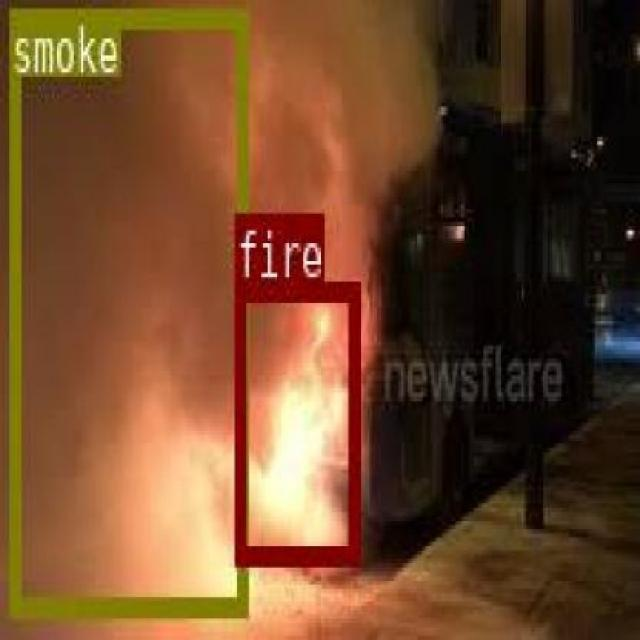Fire: (235, 278, 356, 560)
Smoke: (8, 5, 244, 612)
